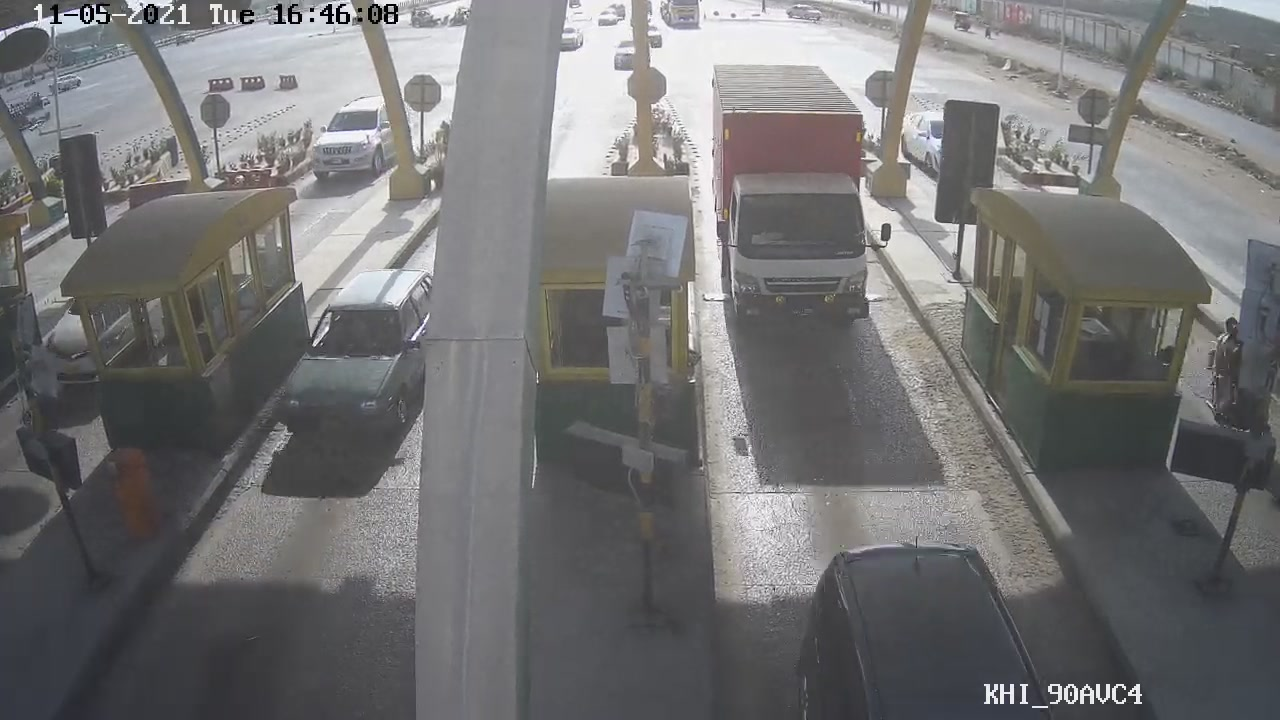F5: (696, 54, 884, 341)
